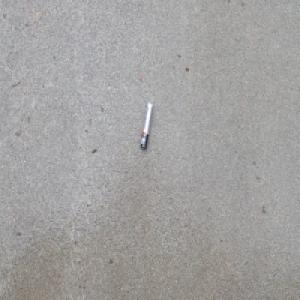Battery: (138, 101, 153, 151)
